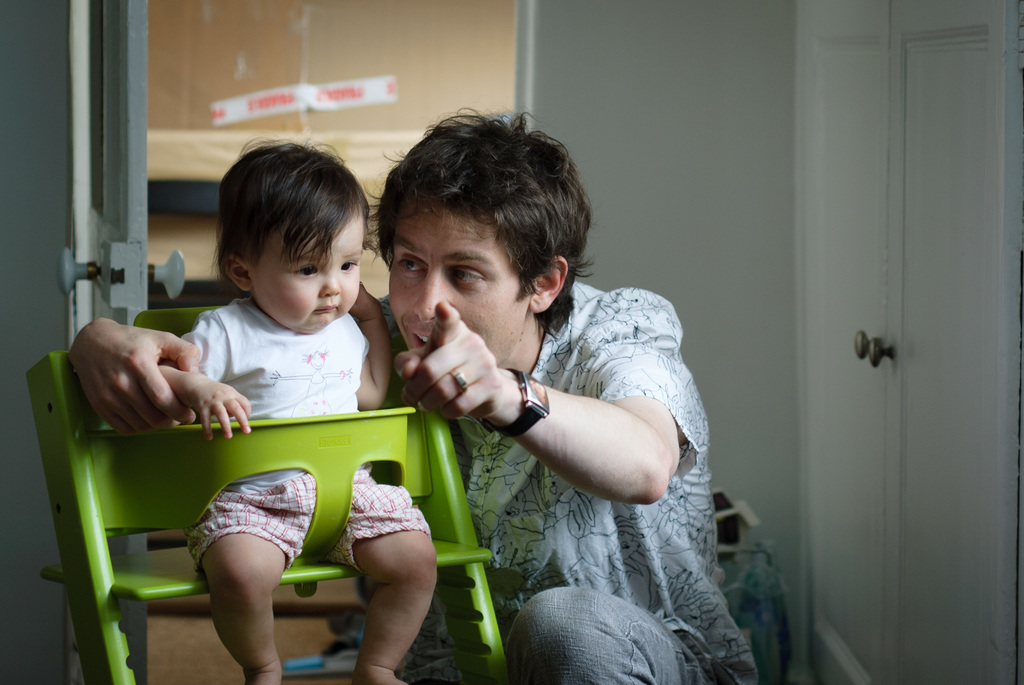Human_hand: (61, 306, 204, 440), (392, 298, 506, 425), (180, 371, 255, 442), (346, 278, 387, 324)
